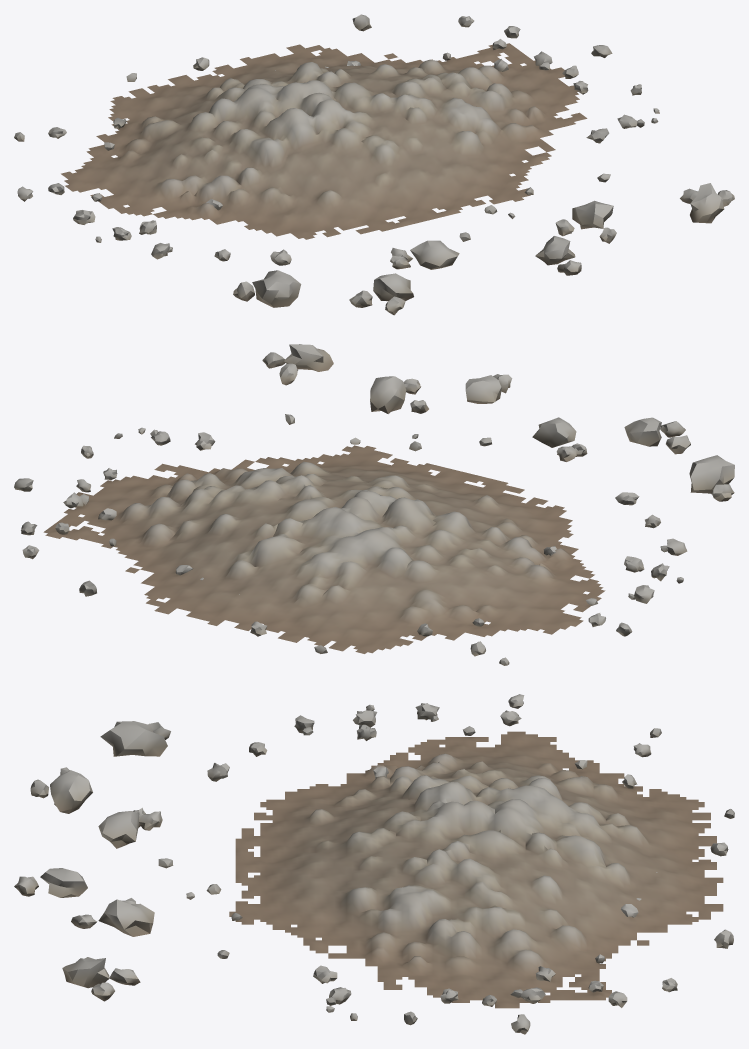
The model's file is dep_silica.glb.
3 renders of one model, top to bottom at view 1: azimuth 30°, elevation 25°; view 2: azimuth 150°, elevation 25°; view 3: azimuth 270°, elevation 25°, orthographic. The views are drawn at different scales.
Parts seen in each view (by area): view 1: dep_silica_mesh, block_0_mesh, block_1_mesh, block_2_mesh, block_5_mesh, block_4_mesh, block_3_mesh; view 2: dep_silica_mesh, block_0_mesh, block_4_mesh, block_5_mesh, block_1_mesh, block_2_mesh, block_3_mesh; view 3: dep_silica_mesh, block_0_mesh, block_5_mesh, block_4_mesh, block_1_mesh, block_2_mesh, block_3_mesh.
Part boxes in pixels (<box>): dep_silica_mesh: <box>14,14,659,265</box>; block_0_mesh: <box>233,270,301,307</box>; block_1_mesh: <box>349,273,413,315</box>; block_2_mesh: <box>390,240,459,269</box>; block_5_mesh: <box>680,183,734,223</box>; block_4_mesh: <box>555,200,616,243</box>; block_3_mesh: <box>535,236,581,275</box>; dep_silica_mesh: <box>14,414,687,665</box>; block_0_mesh: <box>689,455,734,501</box>; block_4_mesh: <box>370,376,428,413</box>; block_5_mesh: <box>262,344,333,385</box>; block_1_mesh: <box>624,417,690,454</box>; block_2_mesh: <box>532,417,587,461</box>; block_3_mesh: <box>465,374,512,403</box>; dep_silica_mesh: <box>158,694,734,1034</box>; block_0_mesh: <box>100,721,170,756</box>; block_5_mesh: <box>62,957,140,1001</box>; block_4_mesh: <box>71,898,154,936</box>; block_1_mesh: <box>30,767,92,813</box>; block_2_mesh: <box>98,807,162,848</box>; block_3_mesh: <box>14,868,87,897</box>.
Bounding box in the file's own units: 7.46 × 0.6488 × 6.85.
